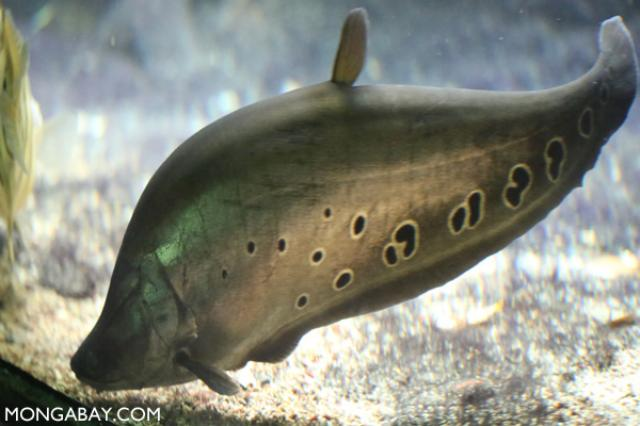Mulut: (62, 349, 150, 403)
Sirip Dada: (168, 342, 252, 414)
Sirip Punggung: (324, 5, 374, 96)
